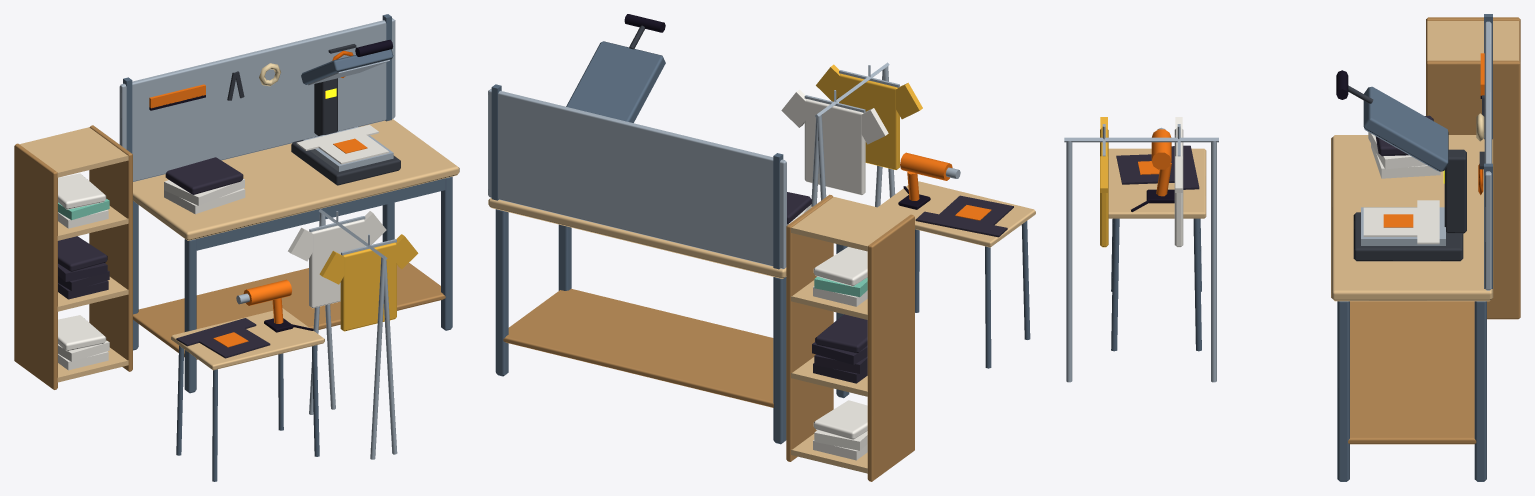
The model's file is station_buffer_1.glb.
The picture shows the model from 3 angles, left to right: view 1: azimuth 30°, elevation 25°; view 2: azimuth 150°, elevation 25°; view 3: azimuth 270°, elevation 25°; orthographic projection. The views are drawn at different scales.
Visible parts, largest first — view 1: station_buffer_1; view 2: station_buffer_1; view 3: station_buffer_1.
Boxes of the visible parts, x1=… form: station_buffer_1: x1=14, y1=14, x2=459, y2=481; station_buffer_1: x1=488, y1=14, x2=1035, y2=481; station_buffer_1: x1=1064, y1=14, x2=1520, y2=481.
Size of the model in its own units: 2.01 by 1.59 by 1.83.
